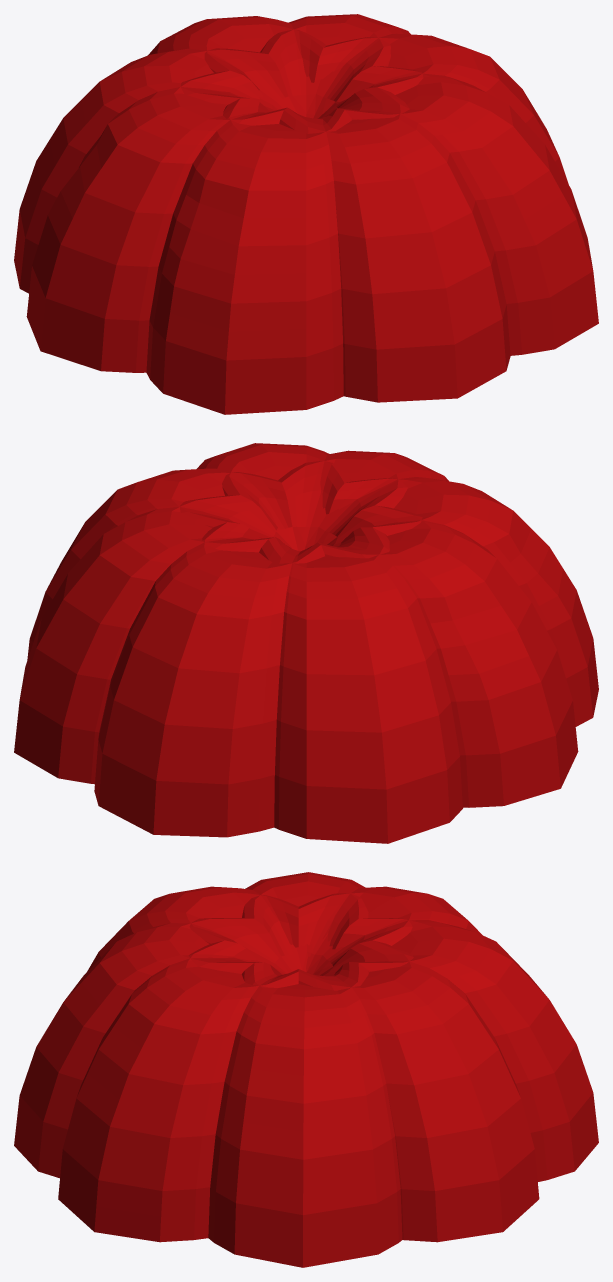
File: Gelatina.fbx
3 views of the same model, one above another, from view 1: azimuth 30°, elevation 25°; view 2: azimuth 150°, elevation 25°; view 3: azimuth 270°, elevation 25° (orthographic). The views are drawn at different scales.
Parts seen in each view (by area): view 1: Sphere.001; view 2: Sphere.001; view 3: Sphere.001.
Part boxes in pixels (x1,y1,x2,y2): Sphere.001: (14,14,598,414); Sphere.001: (14,443,598,843); Sphere.001: (14,872,598,1267).
Size of the model in its own units: 211 by 81.38 by 211.
